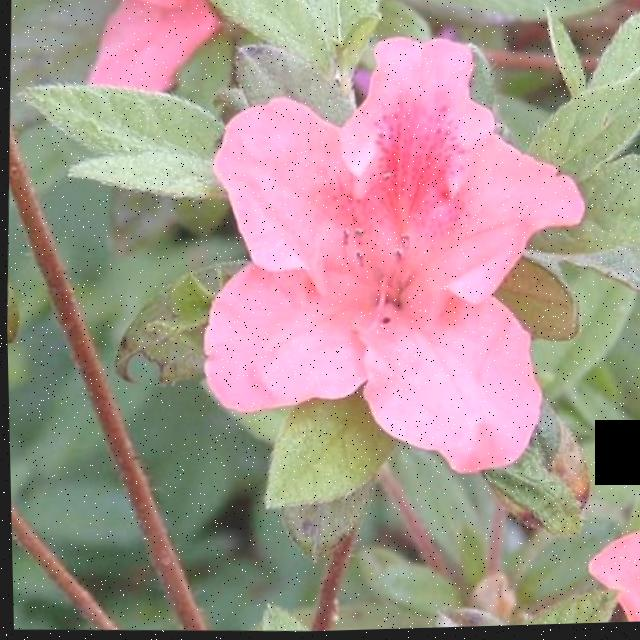azalea: (155, 11, 602, 501)
